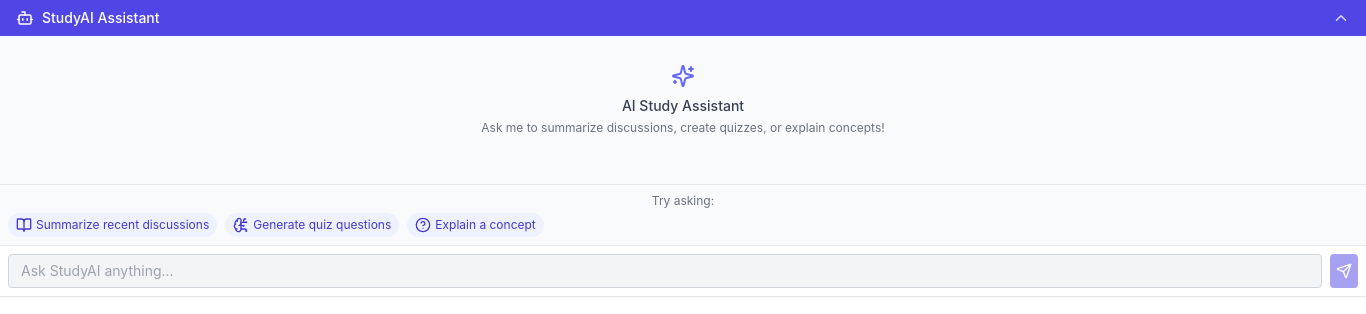
AIAssistant Component › clicking a suggestion fills the input field
Click the button "Summarize recent discussions".
click(113, 225)  # box [8,213,217,237]
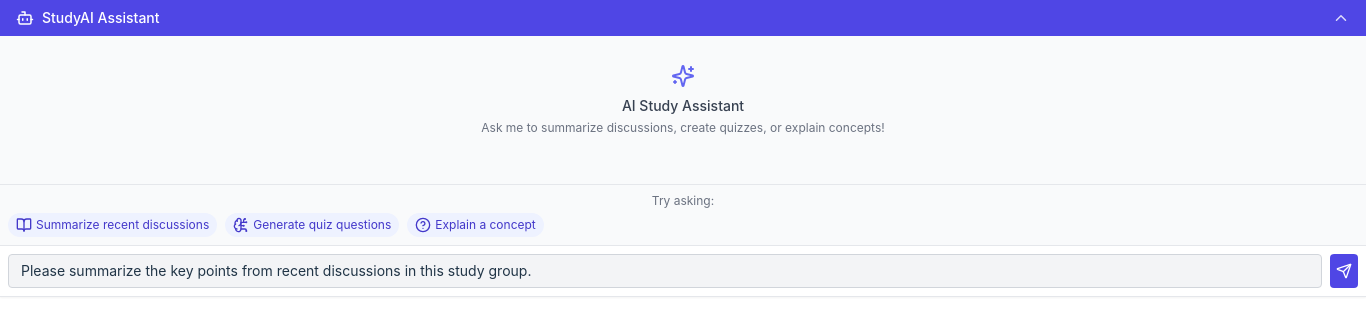
Expected: the field with placeholder "Ask StudyAI anything..." holds "Please summarize the key points from recent discussions in this study group.", [8,254,1322,288]
